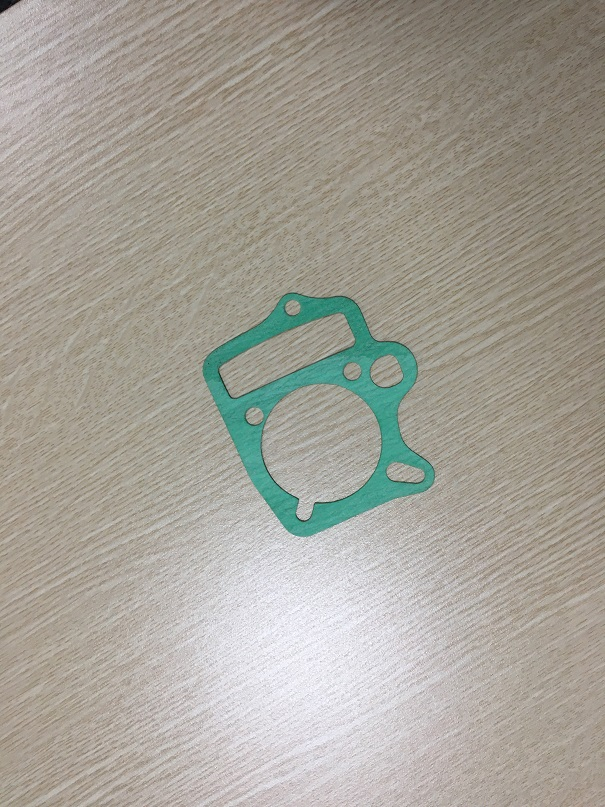type4: (199, 282, 451, 543)
